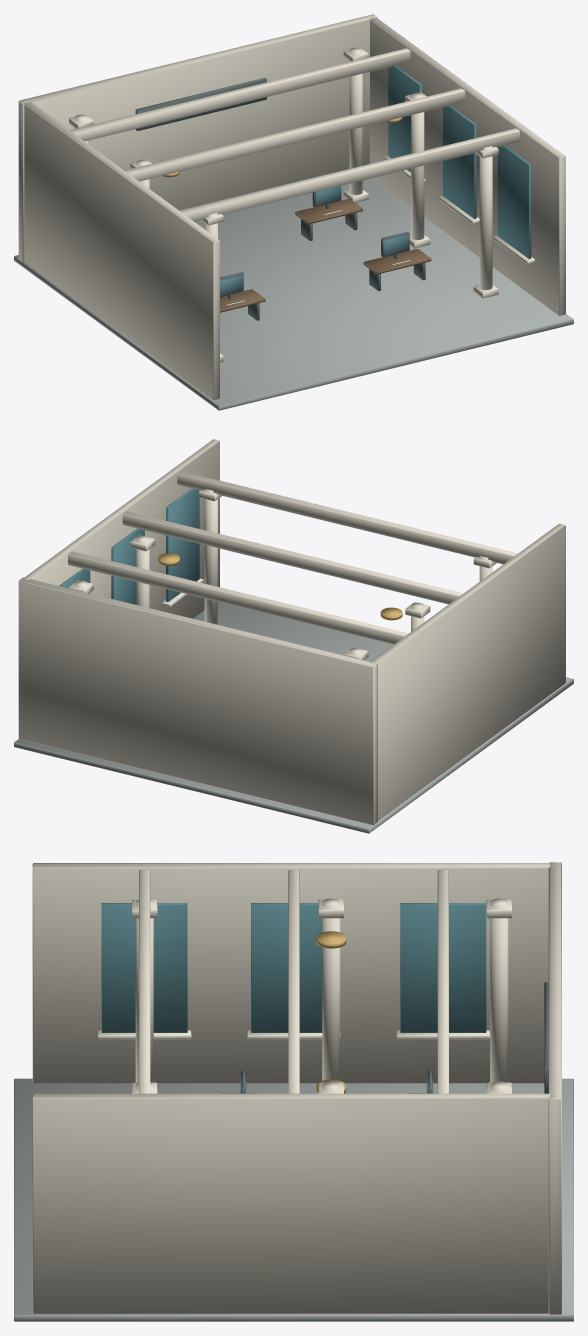
The model's file is est-interior.glb.
3 views of the same model, one above another, from view 1: azimuth 30°, elevation 25°; view 2: azimuth 150°, elevation 25°; view 3: azimuth 270°, elevation 25° (orthographic). The views are drawn at different scales.
Visible parts, largest first — view 1: Stone hall floor, Side wall, Back wall, Side wall.001, Ceiling beam.001, Ceiling beam.002, Ceiling beam, Tall interior window.003, Tall interior window.004, Hall column.003, Tall interior window.005, Hall column.004 (+5 smaller); view 2: Back wall, Side wall, Stone hall floor, Side wall.001, Ceiling beam.001, Ceiling beam.002, Ceiling beam, Tall interior window.003, Hall column.003, Tall interior window.004, Hall column.004; view 3: Side wall.001, Side wall, Stone hall floor, Tall interior window.002, Tall interior window, Tall interior window.001, Back wall, Hall column.002, Hall column.001, Ceiling beam, Ceiling beam.001, Ceiling beam.002 (+2 smaller).
Part boxes in pixels (left/top/right/bottom): Stone hall floor: left=14, top=178, right=573, bottom=410; Side wall: left=24, top=102, right=219, bottom=400; Back wall: left=18, top=14, right=377, bottom=261; Side wall.001: left=370, top=17, right=565, bottom=315; Ceiling beam.001: left=124, top=88, right=465, bottom=181; Ceiling beam.002: left=70, top=48, right=410, bottom=141; Ceiling beam: left=179, top=128, right=519, bottom=221; Tall interior window.003: left=497, top=145, right=531, bottom=258; Tall interior window.004: left=443, top=105, right=476, bottom=218; Hall column.003: left=479, top=146, right=492, bottom=289; Tall interior window.005: left=388, top=65, right=421, bottom=172; Hall column.004: left=411, top=92, right=424, bottom=239; Back wall: left=18, top=577, right=377, bottom=825; Side wall: left=369, top=523, right=565, bottom=820; Stone hall floor: left=14, top=601, right=573, bottom=833; Side wall.001: left=23, top=439, right=219, bottom=618; Ceiling beam.001: left=122, top=511, right=463, bottom=604; Ceiling beam.002: left=68, top=551, right=408, bottom=644; Ceiling beam: left=177, top=471, right=517, bottom=564; Tall interior window.003: left=166, top=488, right=199, bottom=601; Hall column.003: left=204, top=489, right=217, bottom=624; Tall interior window.004: left=111, top=528, right=144, bottom=604; Hall column.004: left=136, top=535, right=149, bottom=607; Side wall.001: left=32, top=1093, right=549, bottom=1313; Side wall: left=32, top=863, right=553, bottom=1083; Stone hall floor: left=14, top=1078, right=573, bottom=1321; Tall interior window.002: left=400, top=903, right=486, bottom=1032; Tall interior window: left=101, top=903, right=187, bottom=1032; Tall interior window.001: left=251, top=903, right=322, bottom=1032; Back wall: left=548, top=862, right=561, bottom=1314; Hall column.002: left=490, top=898, right=508, bottom=1082; Hall column.001: left=322, top=898, right=340, bottom=1080; Ceiling beam: left=139, top=870, right=150, bottom=1093; Ceiling beam.001: left=288, top=870, right=299, bottom=1093; Ceiling beam.002: left=437, top=870, right=448, bottom=1093.
Bounding box in the file's own units: 15 × 6.6 × 15.
